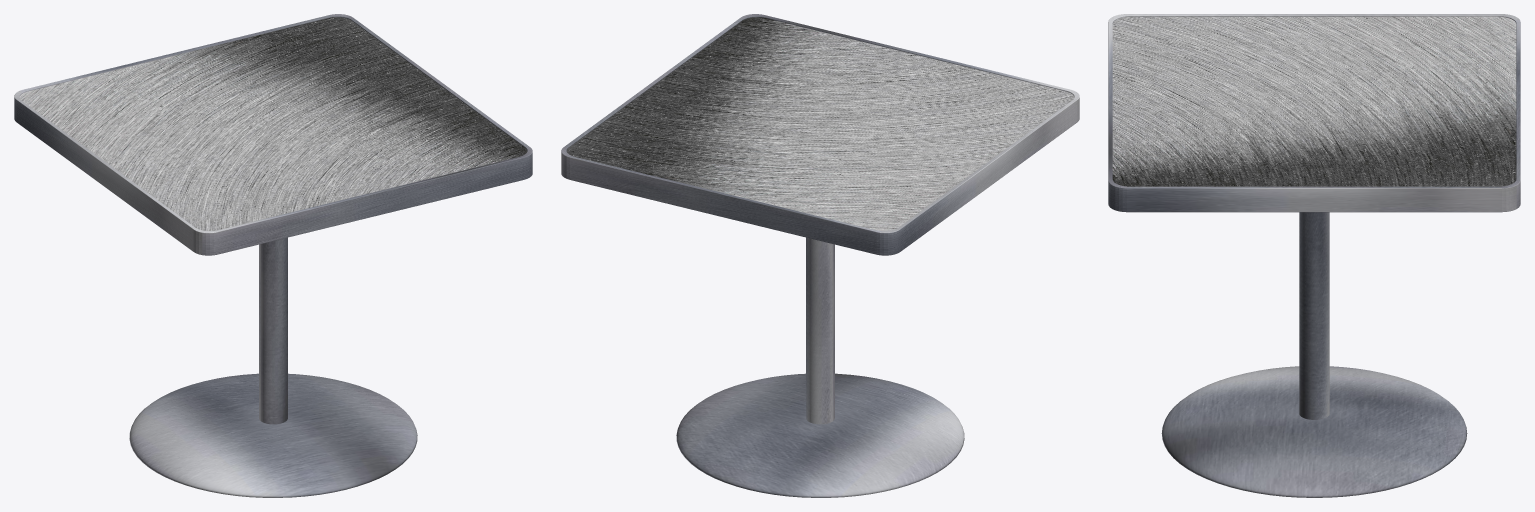
File: metal_table.glb
3 views of the same model, side by side, from view 1: azimuth 30°, elevation 25°; view 2: azimuth 150°, elevation 25°; view 3: azimuth 270°, elevation 25° (orthographic). The views are drawn at different scales.
Parts seen in each view (by area): view 1: Plane.002, Sphere, Plane, Circle; view 2: Plane.002, Sphere, Plane, Circle; view 3: Plane.002, Sphere, Plane, Circle.
Boxes of the visible parts, x1=… form: Plane.002: x1=19, y1=17, x2=527, y2=230; Sphere: x1=129, y1=373, x2=417, y2=497; Plane: x1=14, y1=14, x2=532, y2=255; Circle: x1=259, y1=237, x2=287, y2=424; Plane.002: x1=566, y1=17, x2=1074, y2=230; Sphere: x1=676, y1=373, x2=964, y2=497; Plane: x1=561, y1=14, x2=1079, y2=255; Circle: x1=806, y1=237, x2=834, y2=424; Plane.002: x1=1112, y1=16, x2=1516, y2=186; Sphere: x1=1161, y1=366, x2=1467, y2=497; Plane: x1=1108, y1=14, x2=1520, y2=212; Circle: x1=1299, y1=212, x2=1329, y2=419.
Size of the model in its own units: 2.7 by 2.41 by 2.7.
2 materials, 2 textured.
